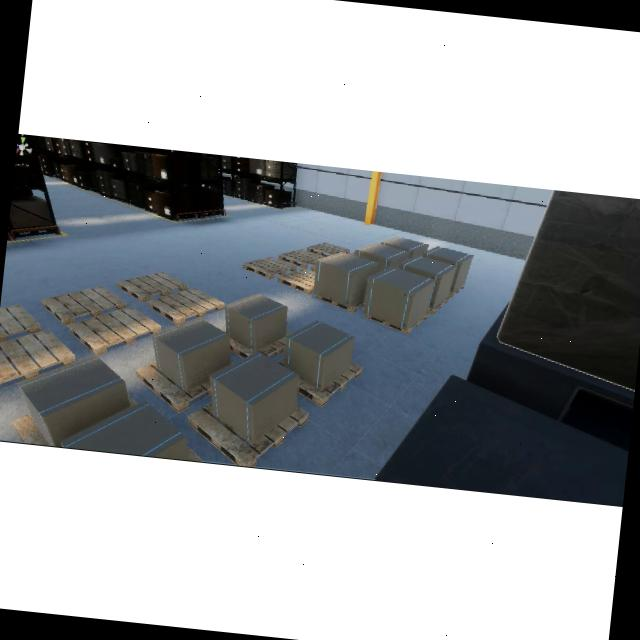wooden_pallet: (187, 402, 308, 468), (67, 305, 160, 356), (135, 363, 211, 413), (40, 284, 126, 325), (296, 361, 363, 408), (147, 287, 224, 325), (116, 270, 187, 303), (241, 255, 297, 279), (276, 267, 313, 294)
